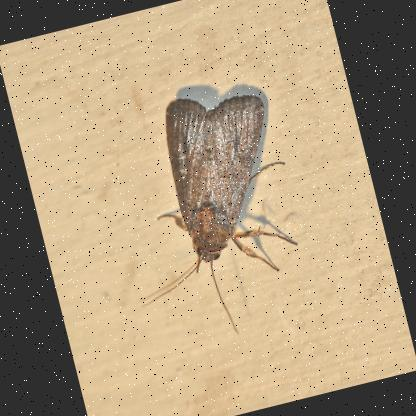Fall Armyworm Moth: (91, 75, 327, 360)
